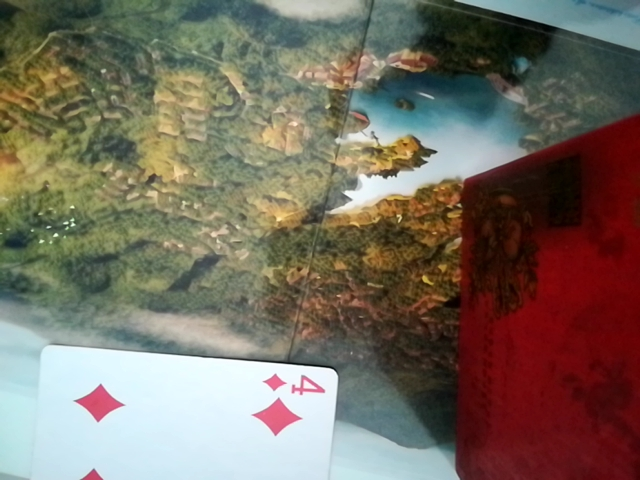fk 4: (4, 345, 348, 479)
